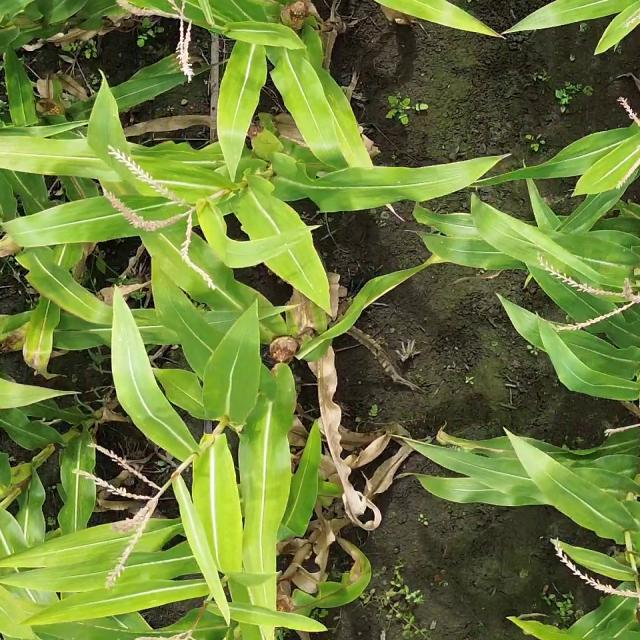northern-leaf-blight: (30, 330, 51, 365)
